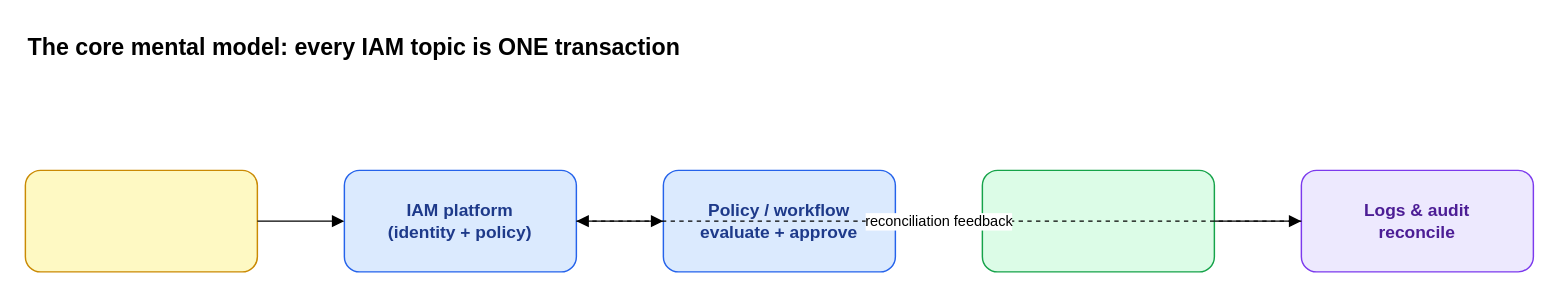
Image size: 1559x297. Some labels were removed from this diagram. The shapes that lost their labels are listed below. From the top down, each one's box as (x1, y1, x2, y2) in pixels, then its label:
(24, 169, 257, 272): Authoritative source (HR / trigger)
(981, 169, 1214, 272): Target system (app / directory / API)
